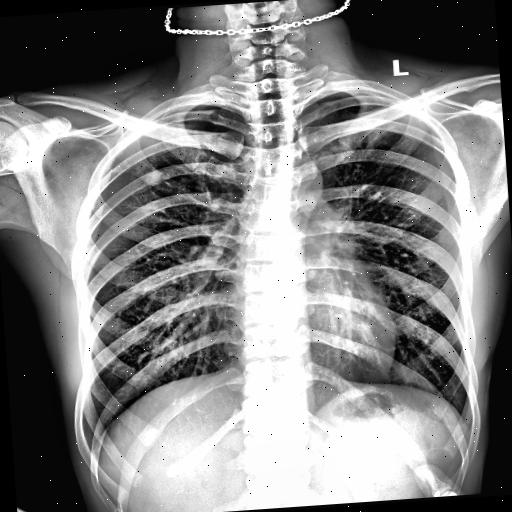11- Pleural thickening: (328, 88, 380, 100), (161, 104, 211, 114)
13- Pulmonary fibrosis: (354, 112, 410, 166), (360, 106, 406, 152)
6- Infiltration: (354, 112, 410, 166)
7- Lung Opacity: (144, 168, 160, 184)
